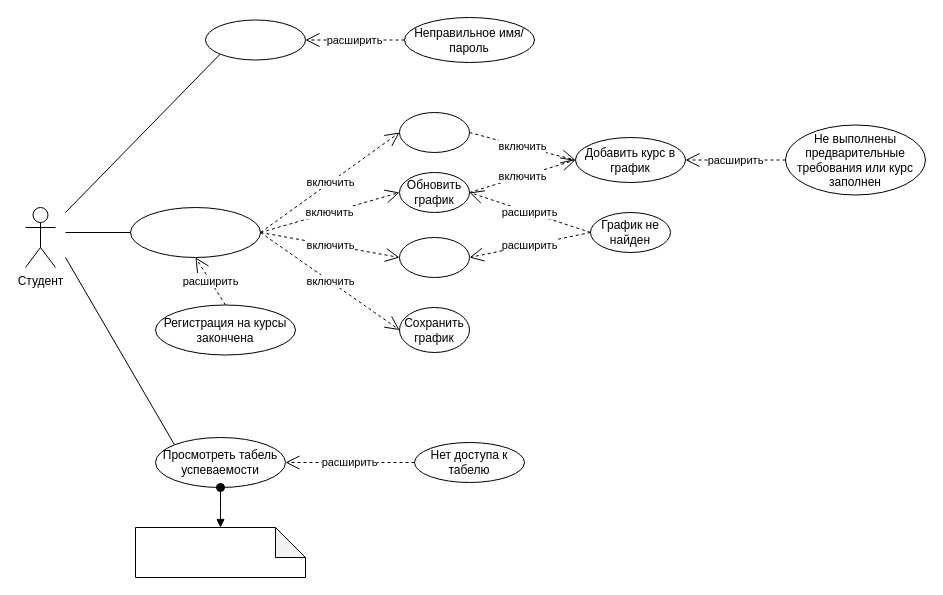
The diagram is 943 pixels wide and 595 high, and some of its shapes have lost their labels. The box of each missing label's shape, as (x1, y1, x2, y2) in pixels:
Войти в систему: (204, 19, 306, 60)
Доступно только в конце семестра: (134, 526, 306, 578)
Зарегистрироваться на курсы: (130, 206, 260, 258)
Создать график: (398, 112, 470, 152)
Удалить график: (398, 236, 470, 278)
